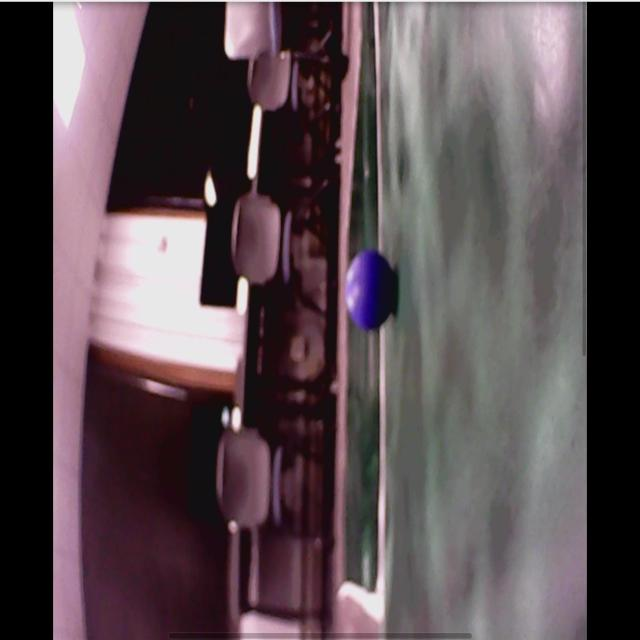ball: (347, 252, 394, 327)
